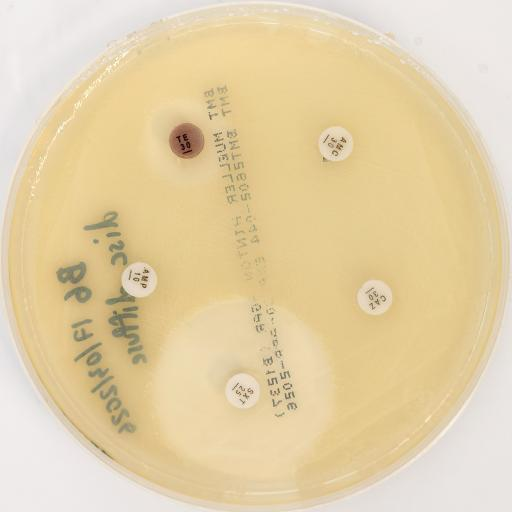disc: (169, 123, 205, 159), (318, 126, 354, 162), (357, 280, 393, 316), (121, 262, 157, 298), (226, 373, 260, 409)
